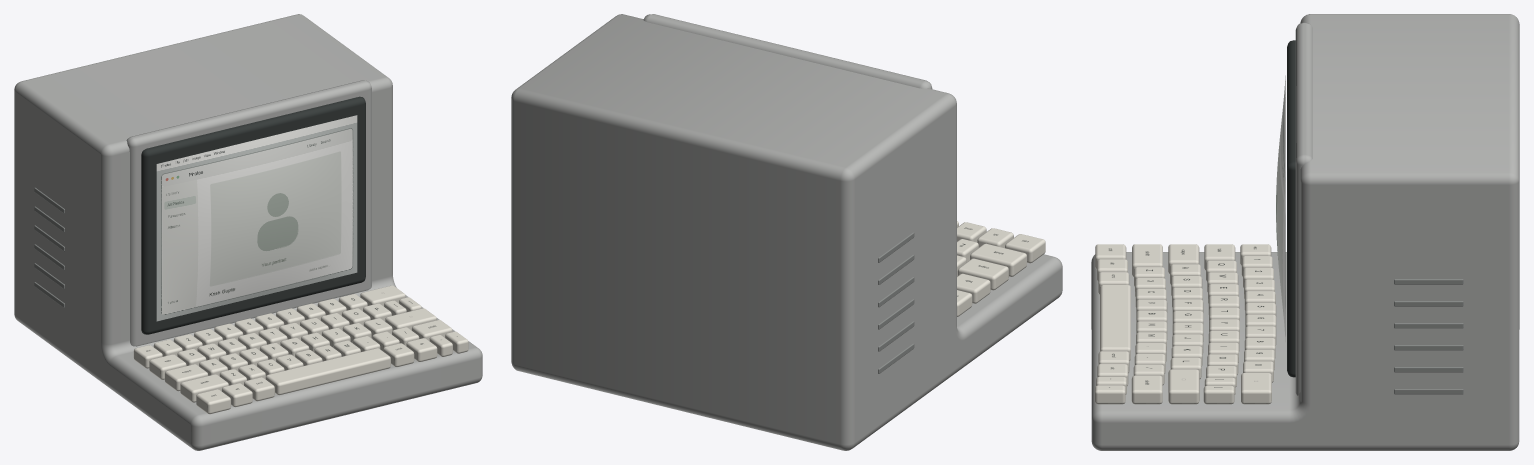
File: computer.glb
The picture shows the model from 3 angles, left to right: view 1: azimuth 30°, elevation 25°; view 2: azimuth 150°, elevation 25°; view 3: azimuth 270°, elevation 25°; orthographic projection. The views are drawn at different scales.
Visible parts, largest first — view 1: Compact_Housing, Screen_Image, CRT_Recess, Front_Bezel, Key_SPACE, Key_SHIFT, Key_ENTER, Key_CTRL, Key_CAPS, Key_BACKSPACE, Key_TAB, Key_RCMD (+4 smaller); view 2: Compact_Housing, Front_Bezel, Key_SHIFT, Key_CAPS, Key_CTRL, Key_TAB; view 3: Compact_Housing, Front_Bezel, CRT_Recess, Key_SPACE, Screen_Image, Key_ENTER, Key_BACKSPACE, Key_RSHIFT, Key_SHIFT, Key_CAPS, Key_RIGHT, Key_] (+6 smaller).
Part boxes in pixels (x1,y1,x2,y2): Compact_Housing: (14,14,482,450); Screen_Image: (156,115,357,321); CRT_Recess: (141,96,365,334); Front_Bezel: (126,80,371,346); Key_SPACE: (265,348,390,395); Key_SHIFT: (180,374,228,402); Key_ENTER: (385,308,436,330); Key_CTRL: (196,389,230,414); Key_CAPS: (164,364,208,391); Key_BACKSPACE: (360,285,405,306); Key_TAB: (149,354,186,379); Key_RCMD: (383,343,414,366); Compact_Housing: (511,14,1062,450); Front_Bezel: (643,14,932,88); Key_SHIFT: (970,243,1026,276); Key_CAPS: (957,258,1008,290); Key_CTRL: (1005,234,1045,263); Key_TAB: (957,273,990,303); Compact_Housing: (1091,14,1519,450); Front_Bezel: (1295,22,1312,395); CRT_Recess: (1287,40,1295,377); Key_SPACE: (1100,285,1130,360); Screen_Image: (1276,75,1285,341); Key_ENTER: (1168,369,1199,404); Key_BACKSPACE: (1241,373,1271,404); Key_RSHIFT: (1131,375,1162,404); Key_SHIFT: (1132,244,1162,276); Key_CAPS: (1168,244,1199,273); Key_RIGHT: (1094,385,1125,404); Key_]: (1203,385,1234,404).
Size of the model in its own units: 2.6 by 2.06 by 2.83.
Materials: 6 (2 with a texture image).
